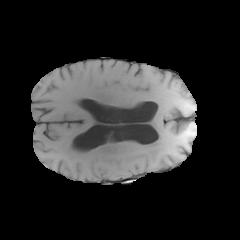glioma: (62, 96, 195, 166)
